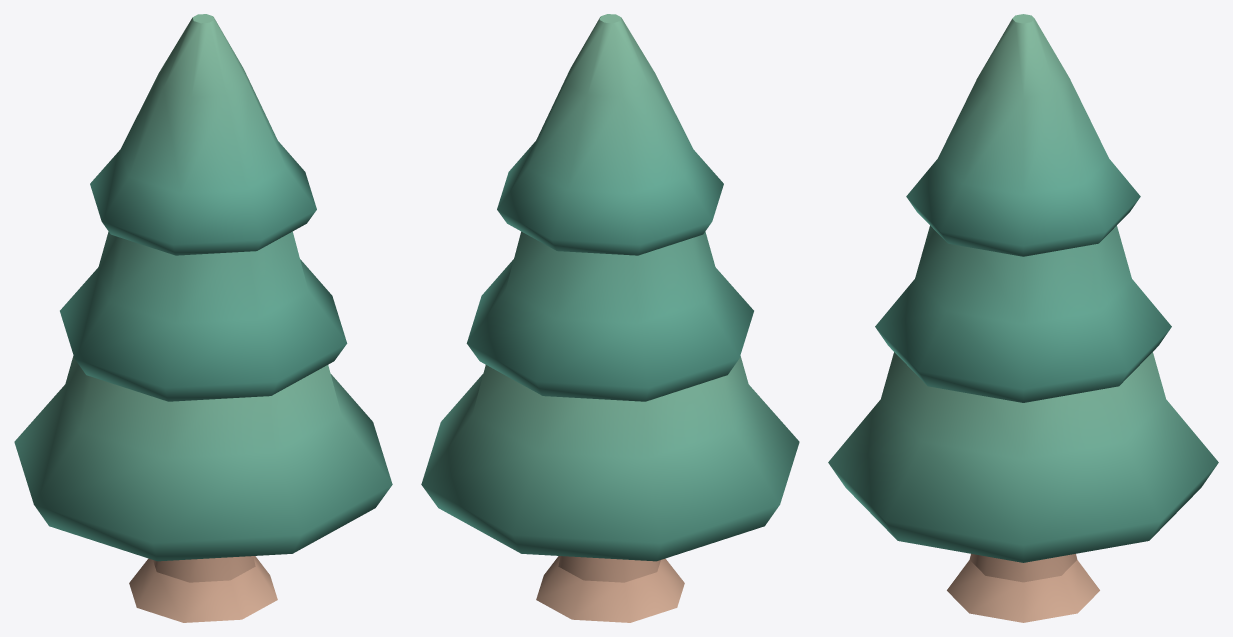
Rendered from tree_snow_d.glb.
3 renders of one model, left to right at view 1: azimuth 30°, elevation 25°; view 2: azimuth 150°, elevation 25°; view 3: azimuth 270°, elevation 25°, orthographic.
Visible parts, largest first — view 1: tree_snow_d; view 2: tree_snow_d; view 3: tree_snow_d.
Boxes of the visible parts, <box> form: tree_snow_d: <box>14,14,392,622</box>; tree_snow_d: <box>421,14,799,622</box>; tree_snow_d: <box>828,14,1218,622</box>.
Bounding box in the file's own units: 39.66 × 64 × 39.66.
